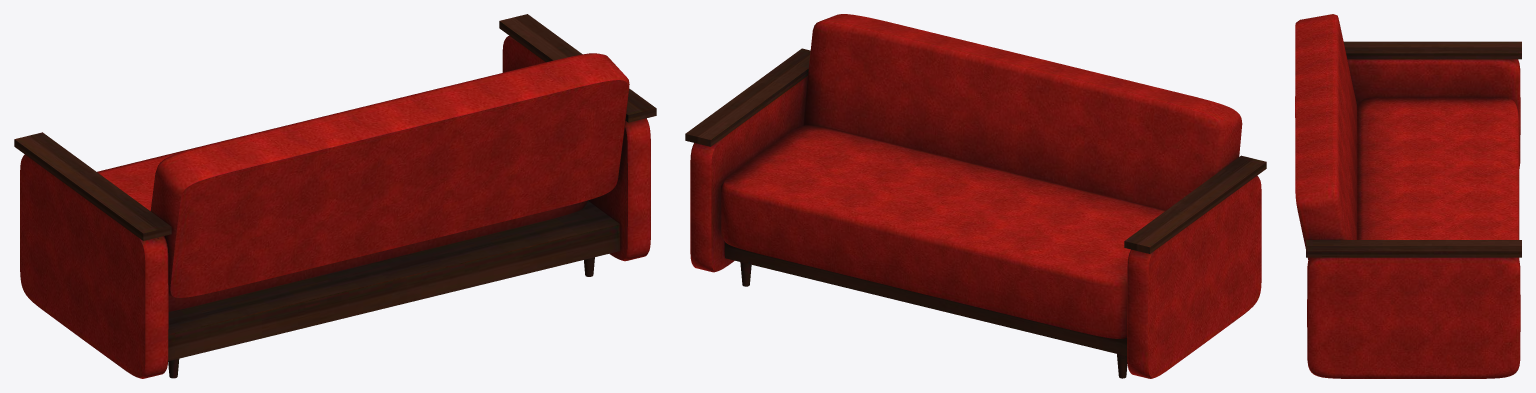
Rendered from sofa_book_red_web.glb.
3 views of the same model, side by side, from view 1: azimuth 30°, elevation 25°; view 2: azimuth 150°, elevation 25°; view 3: azimuth 270°, elevation 25° (orthographic). The views are drawn at different scales.
Visible parts, largest first — view 1: SofaBookRed_Body; view 2: SofaBookRed_Body; view 3: SofaBookRed_Body.
Boxes of the visible parts, <box> form: SofaBookRed_Body: <box>14,14,656,378</box>; SofaBookRed_Body: <box>685,14,1266,378</box>; SofaBookRed_Body: <box>1295,14,1521,378</box>.
Size of the model in its own units: 2 by 0.8338 by 0.9131.
1 material, 1 textured.
